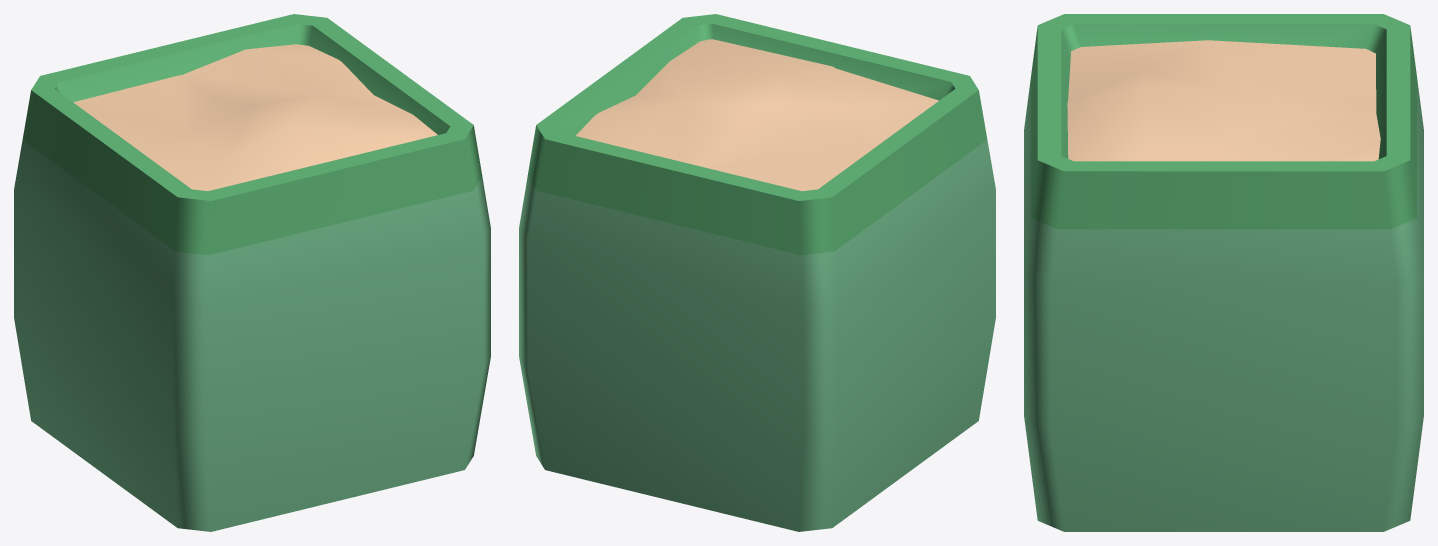
File: Barrier_004.glb
3 renders of one model, left to right at view 1: azimuth 30°, elevation 25°; view 2: azimuth 150°, elevation 25°; view 3: azimuth 270°, elevation 25°, orthographic. The views are drawn at different scales.
Parts seen in each view (by area): view 1: Barrier_004; view 2: Barrier_004; view 3: Barrier_004.
Part boxes in pixels (<box>): Barrier_004: <box>14,14,490,531</box>; Barrier_004: <box>519,14,995,531</box>; Barrier_004: <box>1024,14,1423,531</box>.
Size of the model in its own units: 1.29 by 1.32 by 1.29.
1 material, 1 textured.
